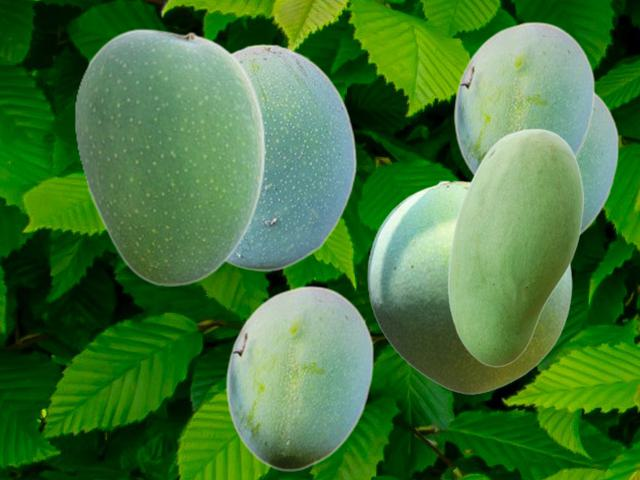green_mango: (74, 28, 265, 285), (367, 179, 571, 393), (447, 128, 582, 366), (226, 43, 356, 271), (225, 285, 373, 470), (453, 21, 594, 176), (577, 92, 618, 234)
